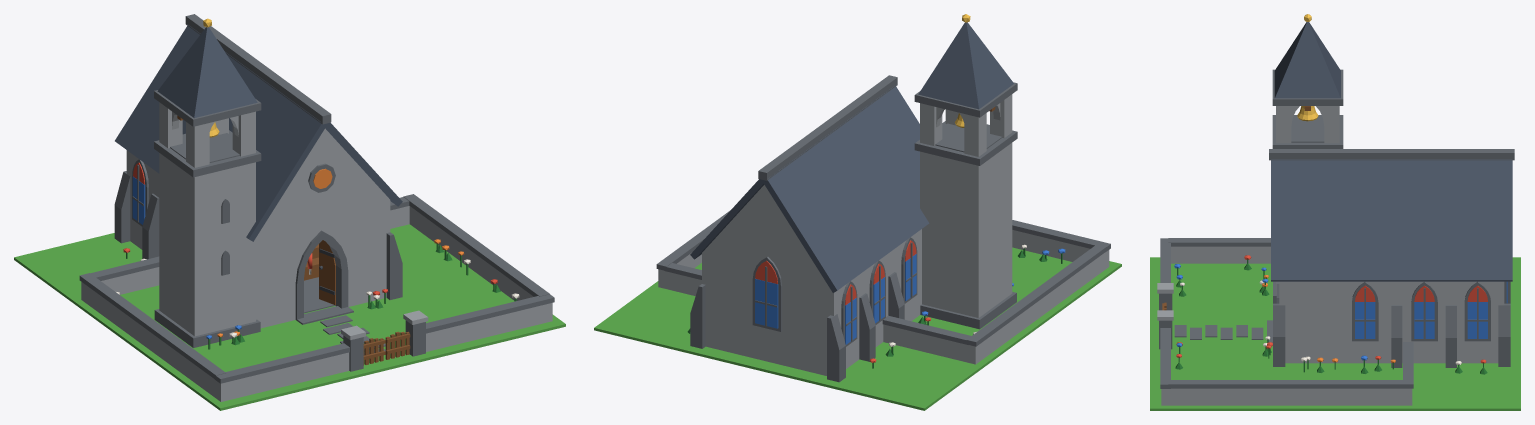
Rendered from village-chapel.glb.
3 renders of one model, left to right at view 1: azimuth 30°, elevation 25°; view 2: azimuth 150°, elevation 25°; view 3: azimuth 270°, elevation 25°, orthographic. The views are drawn at different scales.
Parts seen in each view (by area): view 1: Ground_Grass, Tower, Wall_Front, Roof_L, Spire, YardWall_2, YardWall_0, YardWall_1, Roof_Ridge, YardWall_Cap2, YardWall_Cap3, YardWall_3 (+26 smaller); view 2: Roof_L, Wall_Back, Ground_Grass, Tower, Spire, Wall_Left, YardWall_2, Roof_Ridge, YardWall_Cap2, YardWall_4, YardWall_0, Tower_Plinth (+18 smaller); view 3: Roof_R, Ground_Grass, Wall_Right, YardWall_3, Spire, Roof_Ridge, YardWall_Cap3, YardWall_2, Wild_Flowers, YardWall_Cap2, Buttress_C1, Buttress_C0 (+18 smaller).
Boxes of the visible parts, x1,y1,x2,y2 form: Ground_Grass: [14, 224, 565, 410]; Tower: [159, 153, 255, 336]; Wall_Front: [256, 128, 390, 328]; Roof_L: [115, 26, 325, 241]; Spire: [157, 27, 257, 117]; YardWall_2: [81, 282, 216, 398]; YardWall_0: [216, 352, 349, 401]; YardWall_1: [426, 303, 552, 351]; Roof_Ridge: [185, 14, 331, 124]; YardWall_Cap2: [79, 273, 225, 378]; YardWall_Cap3: [403, 194, 549, 296]; YardWall_3: [409, 206, 533, 300]; Roof_L: [764, 86, 929, 292]; Wall_Back: [702, 185, 838, 375]; Ground_Grass: [594, 247, 1121, 410]; Tower: [920, 143, 1012, 317]; Spire: [918, 22, 1013, 109]; Wall_Left: [838, 229, 921, 368]; YardWall_2: [968, 253, 1104, 364]; Roof_Ridge: [758, 75, 897, 180]; YardWall_Cap2: [966, 244, 1106, 346]; YardWall_4: [883, 324, 968, 362]; YardWall_0: [1012, 230, 1109, 269]; Tower_Plinth: [920, 292, 1016, 329]; Roof_R: [1271, 160, 1512, 281]; Ground_Grass: [1150, 257, 1520, 410]; Wall_Right: [1287, 281, 1496, 363]; YardWall_3: [1169, 388, 1412, 405]; Spire: [1274, 22, 1340, 98]; Roof_Ridge: [1269, 149, 1514, 160]; YardWall_Cap3: [1168, 380, 1413, 388]; YardWall_2: [1171, 246, 1270, 263]; Wild_Flowers: [1174, 255, 1487, 374]; YardWall_Cap2: [1168, 238, 1270, 246]; Buttress_C1: [1498, 303, 1510, 366]; Buttress_C0: [1273, 303, 1285, 366].
Bounding box in the file's own units: 35 × 30 × 36.2.
